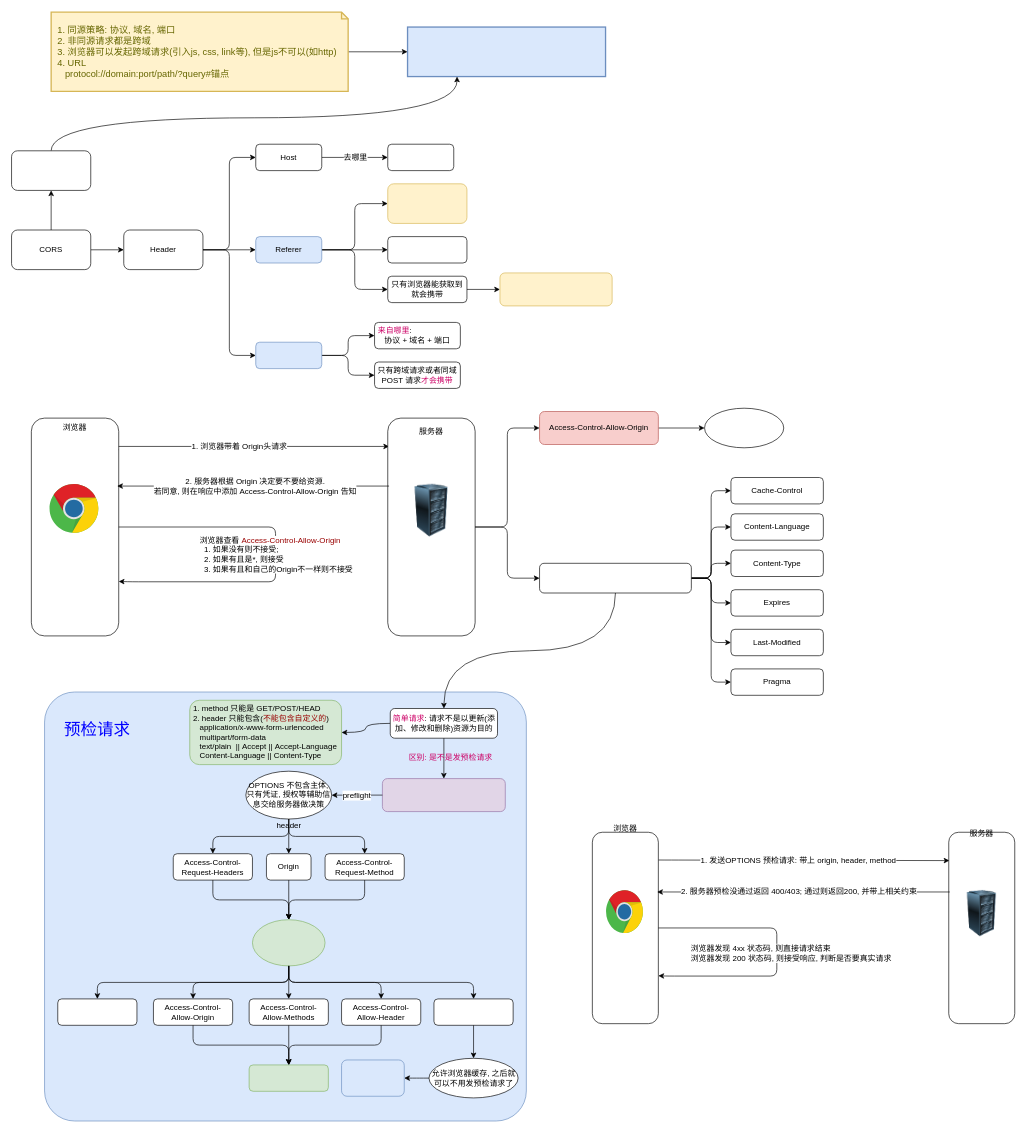
This 1026x1133 diagram has some shape labels left out. The shapes that lost their labels are listed below. From the top down, each one's box as (x1, y1, x2, y2) in pixels, then its label:
(407, 26, 606, 77): 浏览器 1. 允许跨域写: <a>, 重定向, 表单提交 2. 允许跨域资源引入" <img> <link> <script> 3. 禁止跨域读: Http
(11, 150, 91, 190): 跨域资源共享
(387, 144, 454, 171): 域名 + 端口
(387, 183, 467, 223): 来自哪里: 协议 + 域名 + 端口+ 路径 + 参数
(387, 236, 467, 263): 统计 + 防盗链
(499, 272, 612, 306): 获取不到则不带, 但是会带上Origin: null，且依旧算跨域
(255, 342, 322, 369): Origin 跨域
(704, 408, 784, 448): 服务器是否授权 浏览器是否接受
(539, 563, 691, 593): Access-Control-Expose-Headers 那些可以暴露给前端(只对复杂请求有效)
(382, 778, 505, 812): 复杂请求: 在发送请求之前必须发送一个预检请求(OPTIONS)
(252, 919, 325, 966): OPTIONS 成功
(57, 998, 137, 1025): Access-Control-Expose-Headers
(433, 998, 513, 1025): Access-Control-Max-Age (秒)
(248, 1064, 328, 1091): 默认接受所有
(341, 1059, 404, 1096): 同一URL 且Header没变
